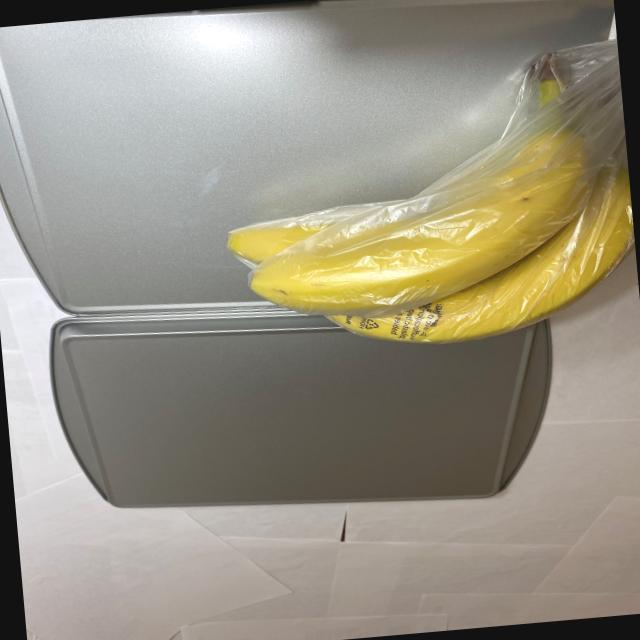banana: (205, 33, 636, 370)
